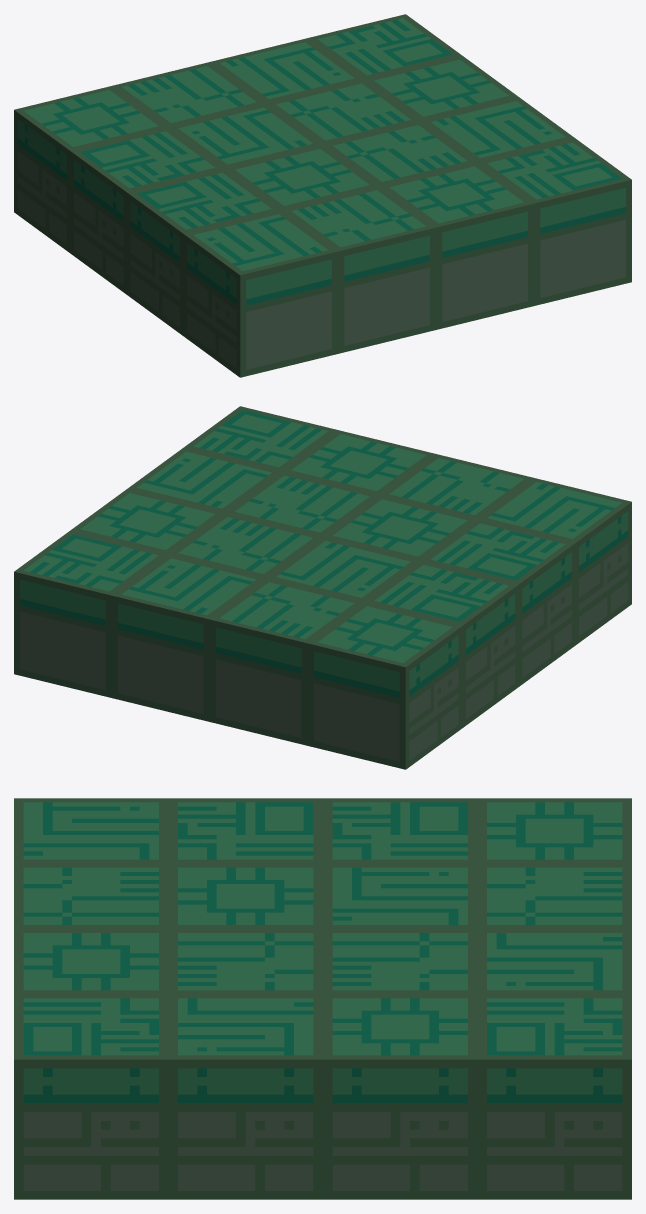
File: m_tiles_2_4x4.fbx
The picture shows the model from 3 angles, top to bottom: view 1: azimuth 30°, elevation 25°; view 2: azimuth 150°, elevation 25°; view 3: azimuth 270°, elevation 25°; orthographic projection. The views are drawn at different scales.
Visible parts, largest first — view 1: m_tiles_2_4x4; view 2: m_tiles_2_4x4; view 3: m_tiles_2_4x4.
Part boxes in pixels (x1,y1,x2,y2): m_tiles_2_4x4: (14,14,631,377); m_tiles_2_4x4: (14,406,631,769); m_tiles_2_4x4: (14,798,631,1199).
Bounding box in the file's own units: 6.4 × 1.6 × 6.4.
1 material, 1 textured.
